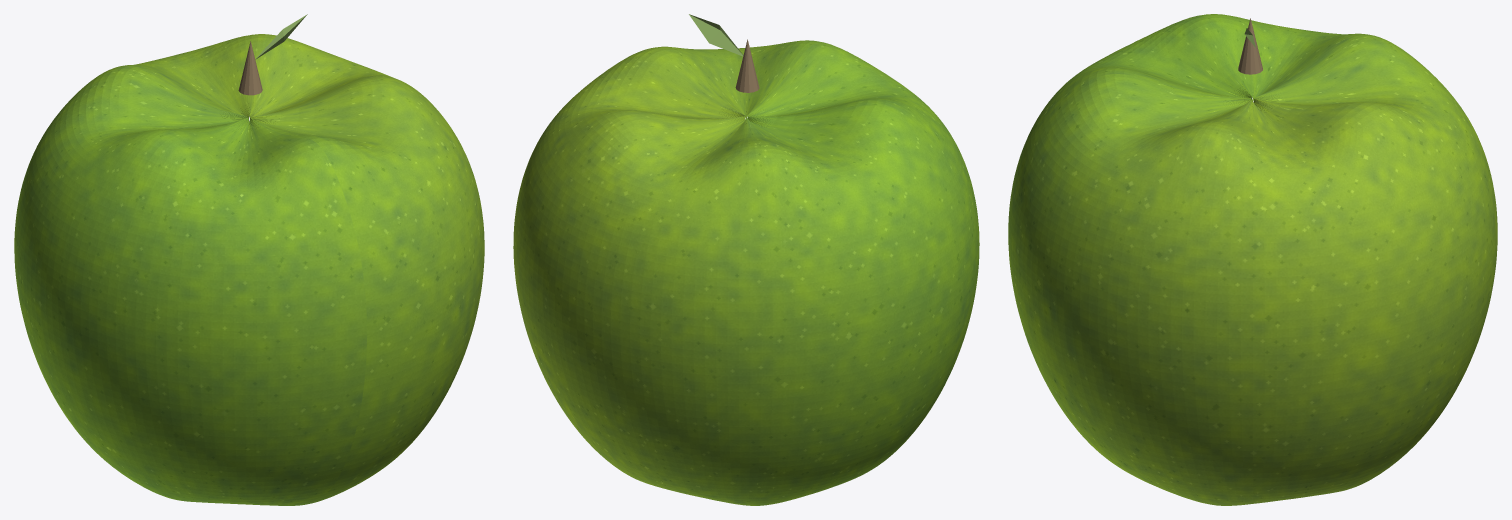
File: green-apple.glb
3 renders of one model, left to right at view 1: azimuth 30°, elevation 25°; view 2: azimuth 150°, elevation 25°; view 3: azimuth 270°, elevation 25°, orthographic. The views are drawn at different scales.
Parts seen in each view (by area): view 1: granny_smith_apple, stem; view 2: granny_smith_apple, leaf, stem; view 3: granny_smith_apple, stem.
Boxes of the visible parts, <box> form: granny_smith_apple: <box>14,34,484,505</box>; stem: <box>238,41,262,95</box>; granny_smith_apple: <box>513,40,979,505</box>; leaf: <box>689,14,743,56</box>; stem: <box>735,39,759,92</box>; granny_smith_apple: <box>1008,14,1497,505</box>; stem: <box>1238,18,1262,74</box>.
Size of the model in its own units: 2.02 by 2.07 by 2.02.
3 materials, 1 textured.
